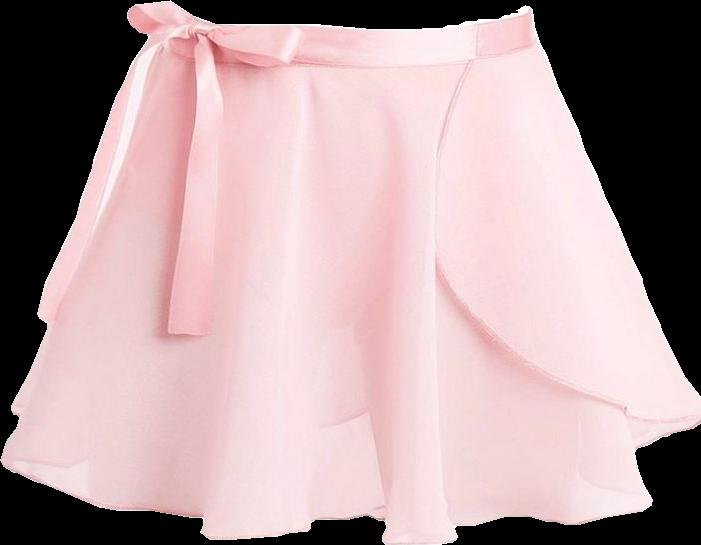Hemline: (431, 62, 700, 422), (0, 458, 656, 544)
Waistline: (155, 37, 542, 68), (173, 6, 529, 34)
